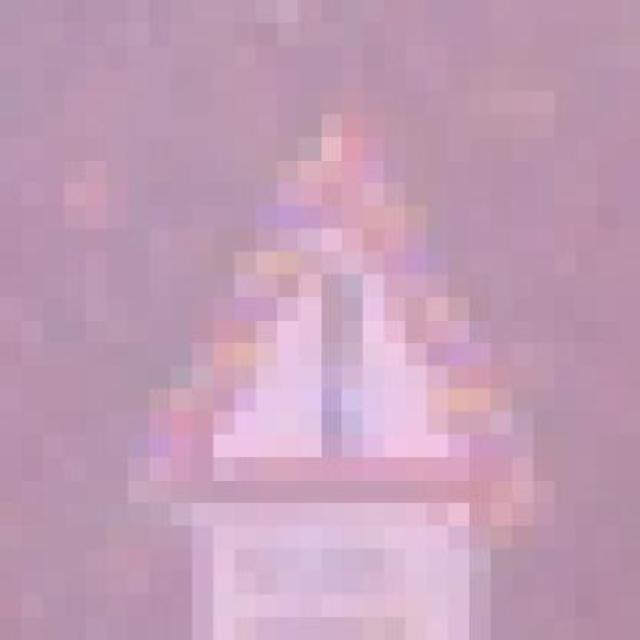Attention Please-: (128, 114, 534, 549)
